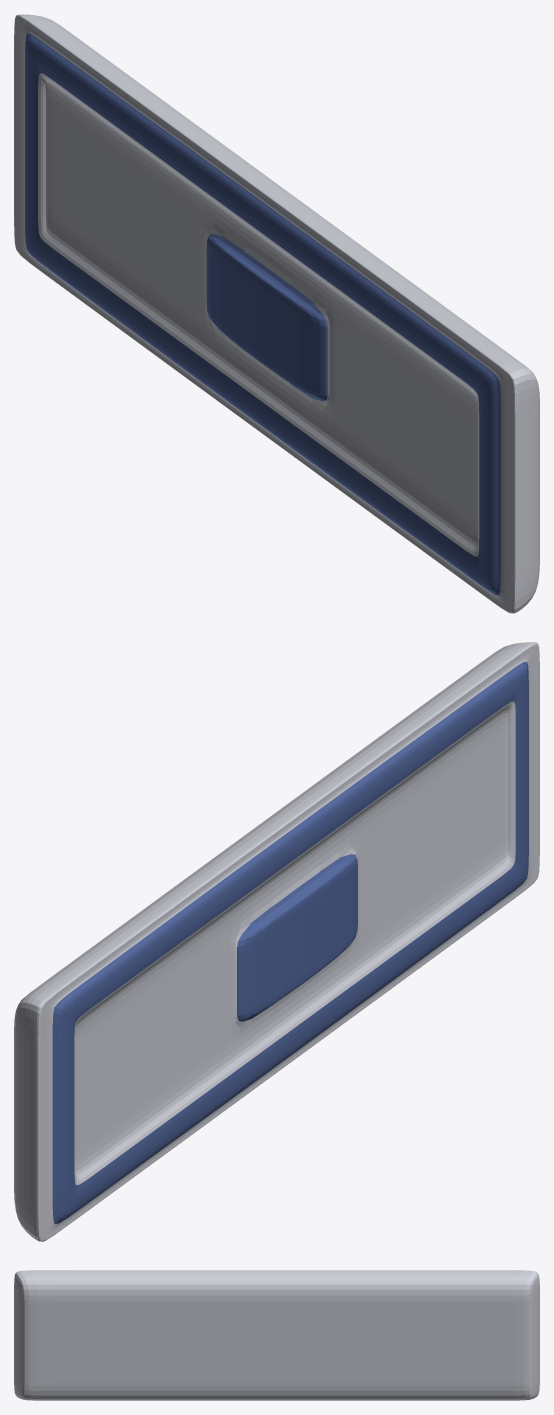
The model's file is Tile3.fbx.
3 renders of one model, top to bottom at view 1: azimuth 30°, elevation 25°; view 2: azimuth 150°, elevation 25°; view 3: azimuth 270°, elevation 25°, orthographic. The views are drawn at different scales.
Parts seen in each view (by area): view 1: Tile1; view 2: Tile1; view 3: Tile1.
Boxes of the visible parts, <box> form: Tile1: <box>14,14,539,613</box>; Tile1: <box>14,642,539,1241</box>; Tile1: <box>14,1270,539,1400</box>.
Bounding box in the file's own units: 1253 × 5962 × 22356.
